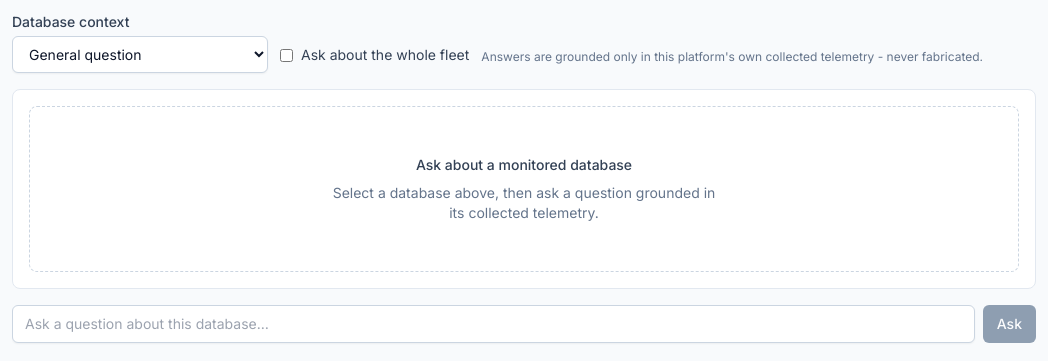
Test case: AiCopilotPage › distinguishes a tool that found evidence from one that was checked but empty
The image size is (1048, 361).
Type "Any blocking?" into the field with placeholder "Ask a question about this database…".
click(493, 324); type("Any blocking?")  # box [12, 305, 975, 343]
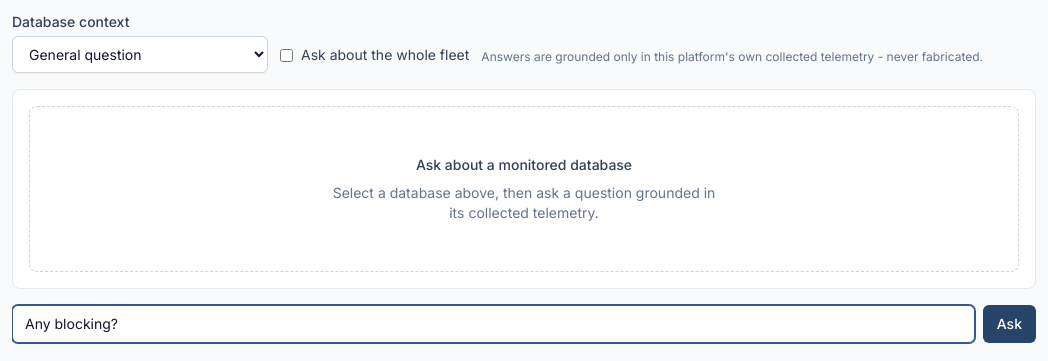
Click the button "Ask".
click(1009, 324)  # box [983, 305, 1036, 343]
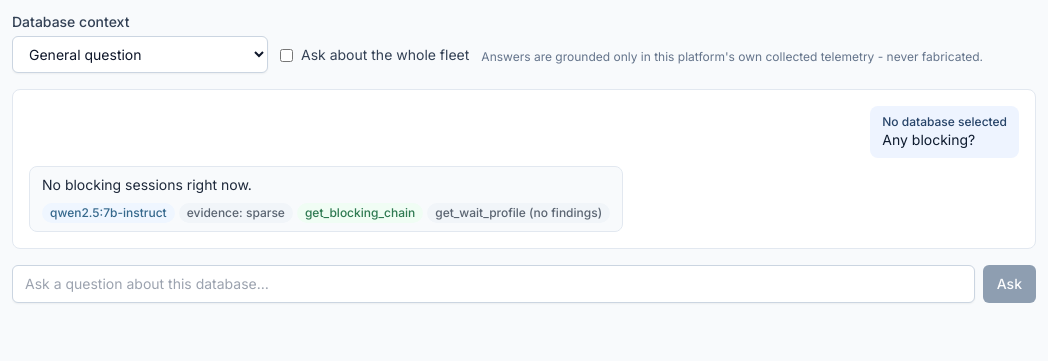
Now the text "evidence: sparse" is shown, box [179, 203, 293, 223]
